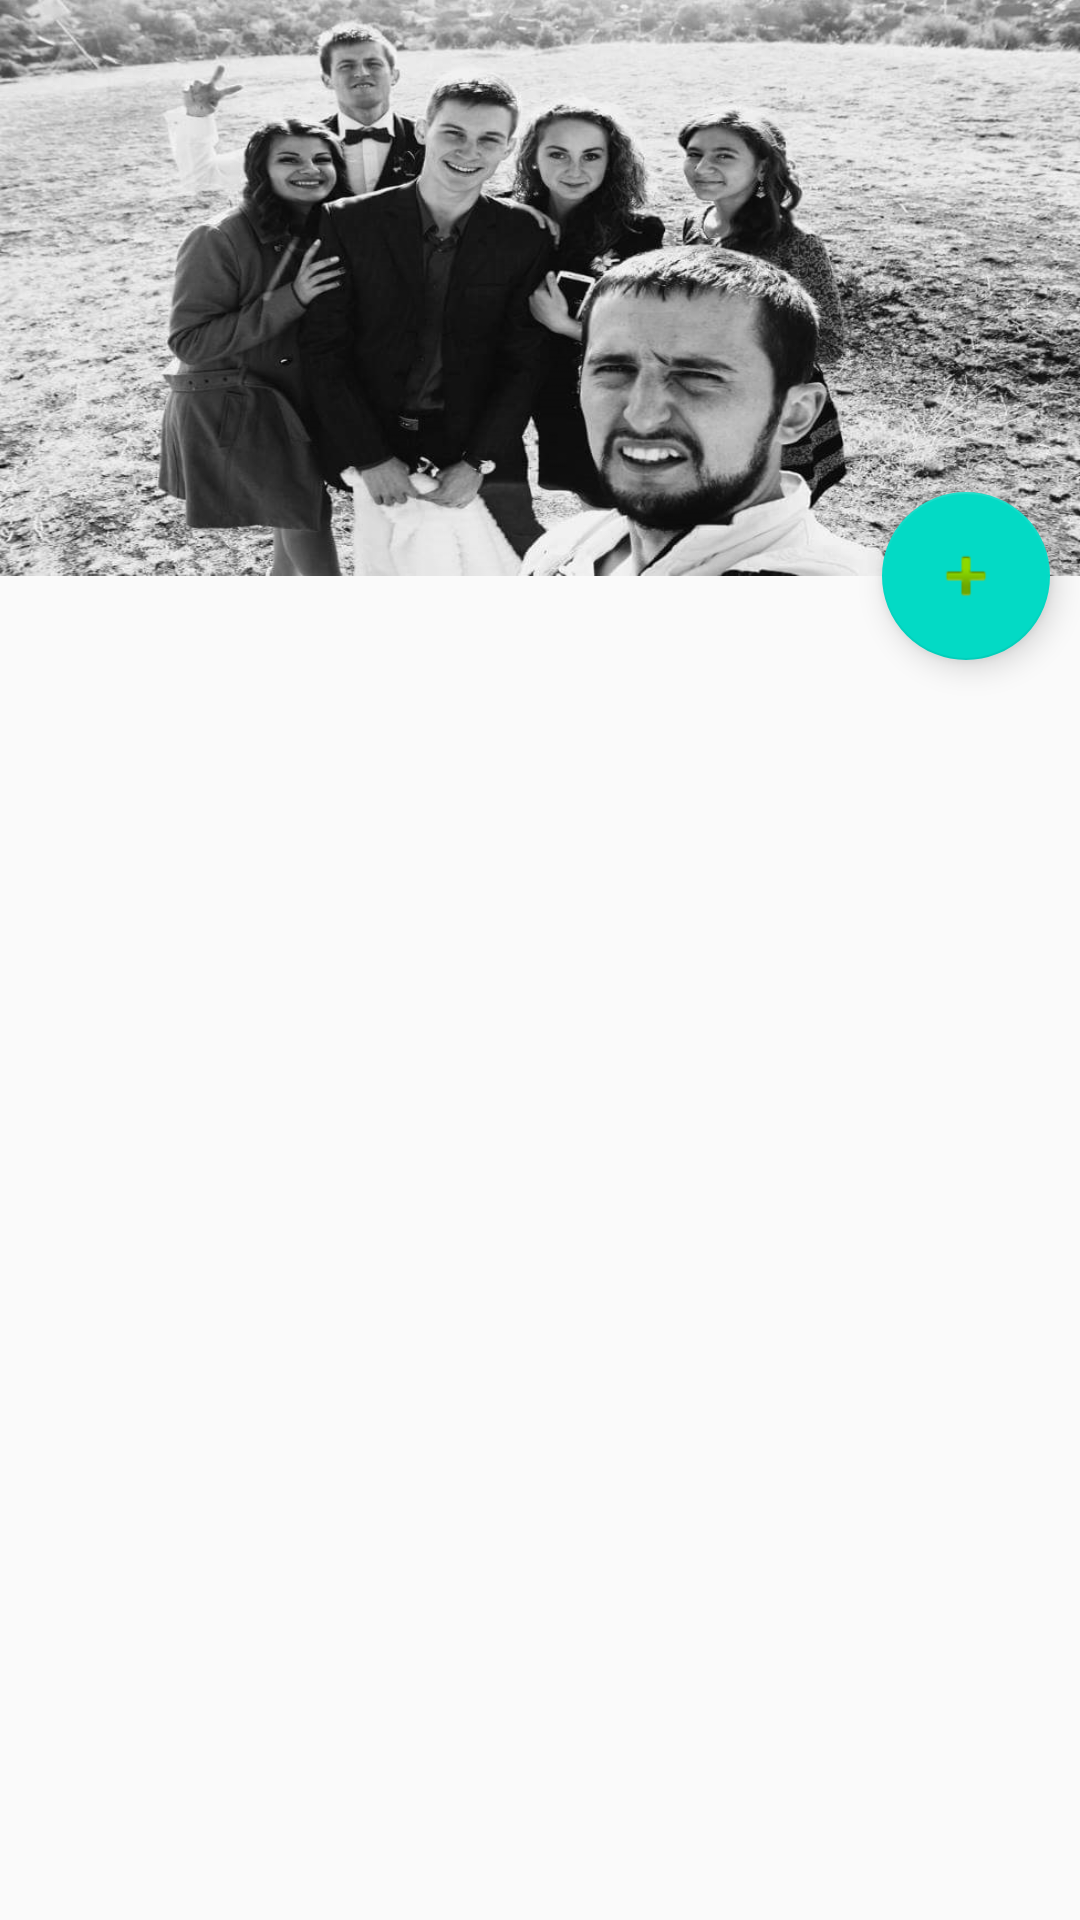

Where to tap for icons on this 1080*1920 app screen, as point (x, y):
add: point (966, 576)
